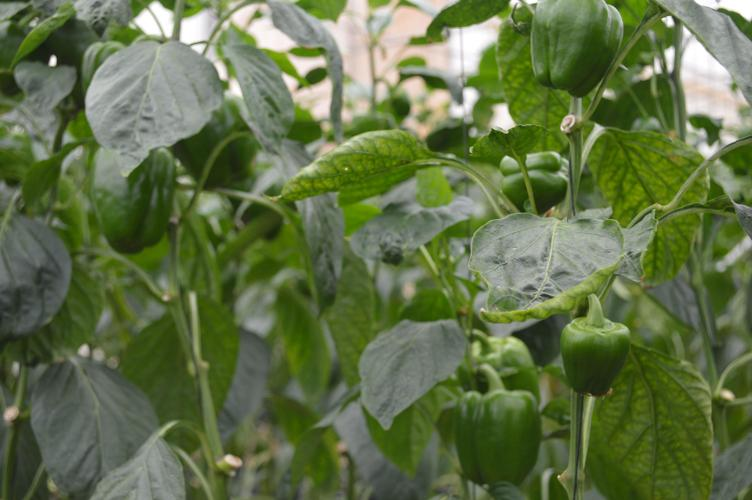BellPepper: (85, 153, 178, 249), (449, 393, 541, 485), (532, 5, 622, 91), (554, 318, 632, 394), (175, 104, 245, 183), (460, 336, 535, 400), (495, 152, 562, 210)
